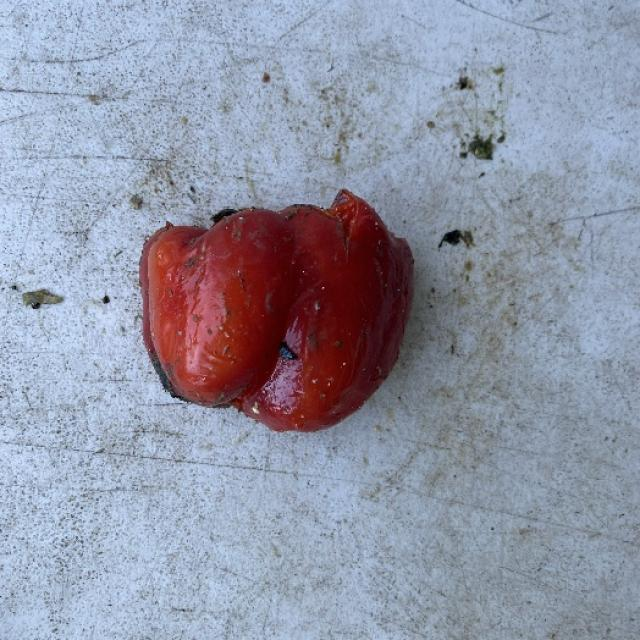organic: (142, 192, 420, 436)
